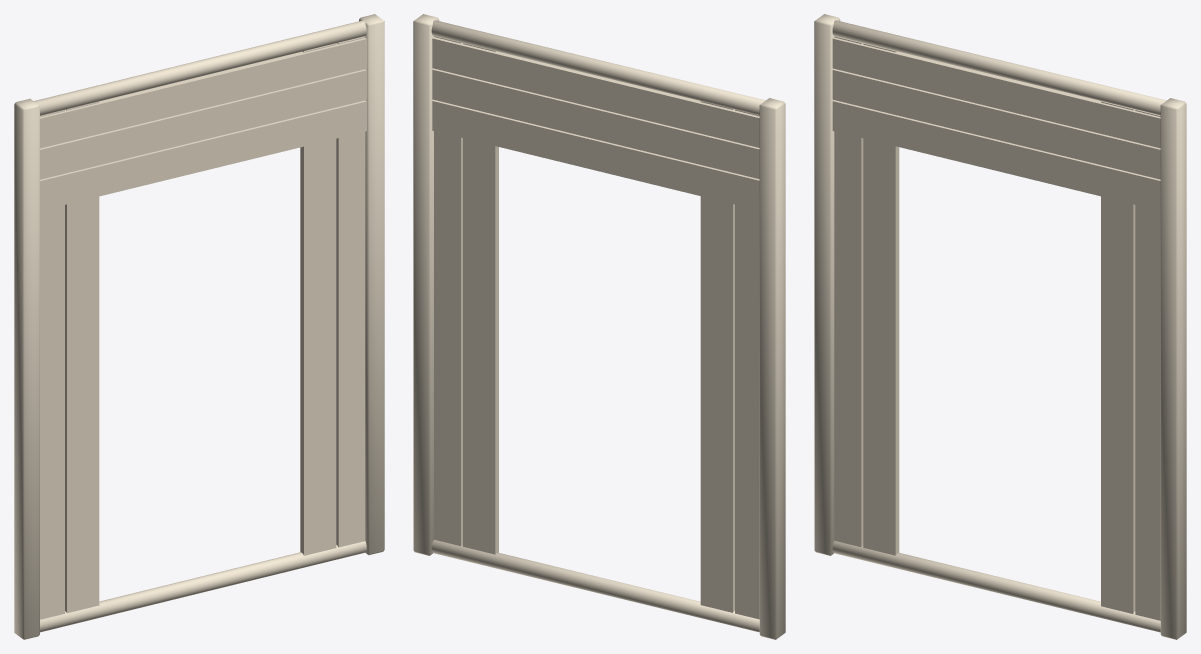
Rendered from SM_module_door.glb.
3 views of the same model, side by side, from view 1: azimuth 30°, elevation 25°; view 2: azimuth 150°, elevation 25°; view 3: azimuth 330°, elevation 25° (orthographic).
Parts seen in each view (by area): view 1: SM_module_door; view 2: SM_module_door; view 3: SM_module_door.
Boxes of the visible parts, <box> form: SM_module_door: <box>14,14,384,639</box>; SM_module_door: <box>413,14,785,639</box>; SM_module_door: <box>814,14,1186,639</box>.
Size of the model in its own units: 2 by 2.8 by 0.1.
